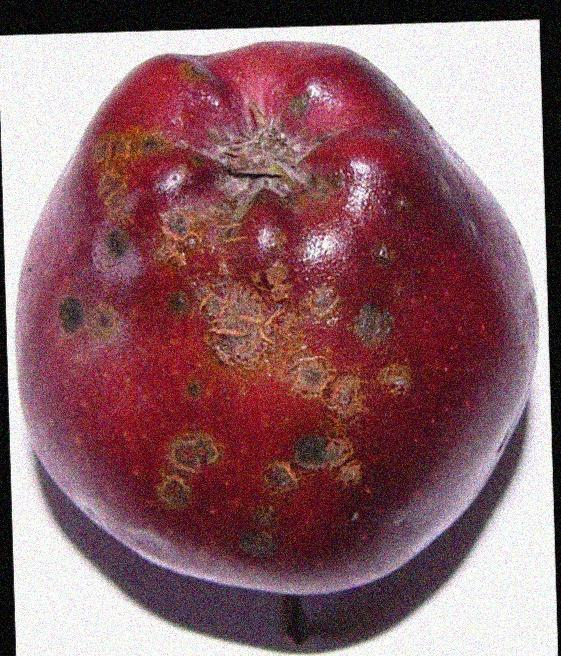rotten apple: (11, 40, 538, 612)
